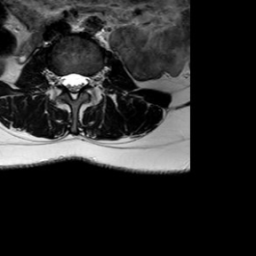CCS_normal: (69, 65, 79, 104)
LFS_normal: (88, 64, 97, 95)
LLS_normal: (79, 65, 88, 94)
RFS_normal: (52, 64, 60, 93)
RLS_normal: (60, 65, 69, 94)
